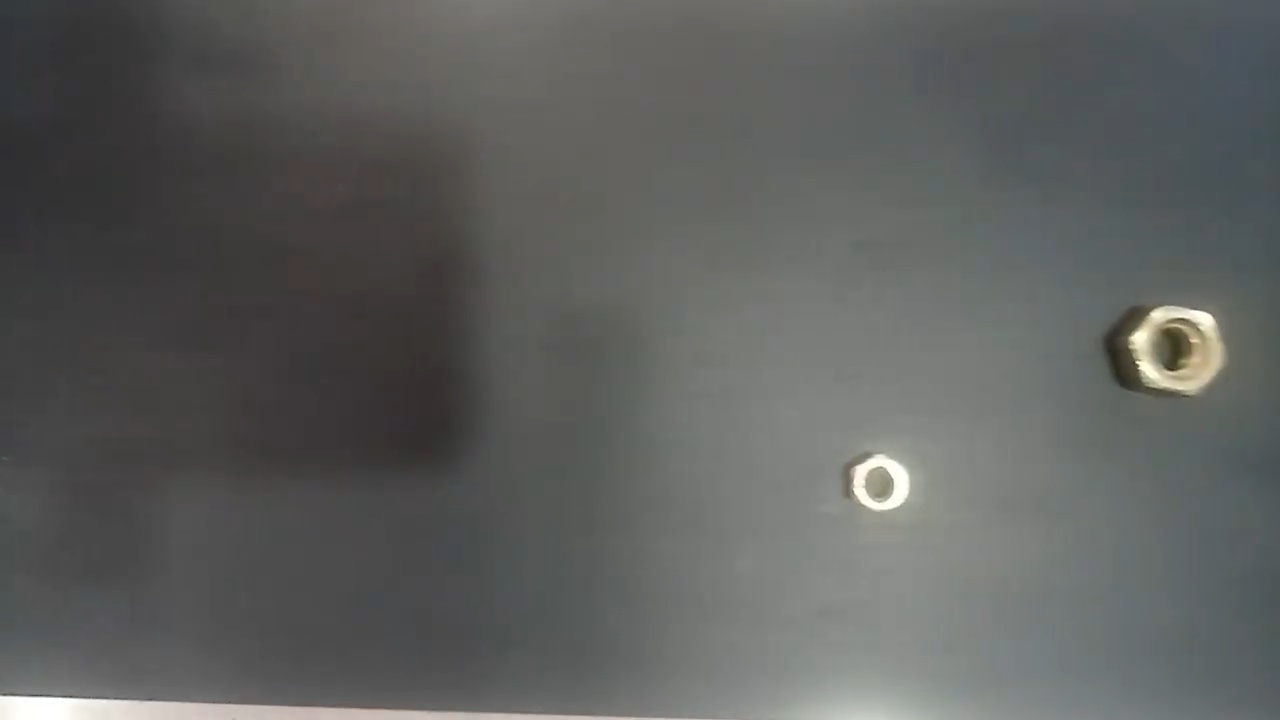Bolt: (1126, 303, 1227, 400), (849, 450, 912, 514)
